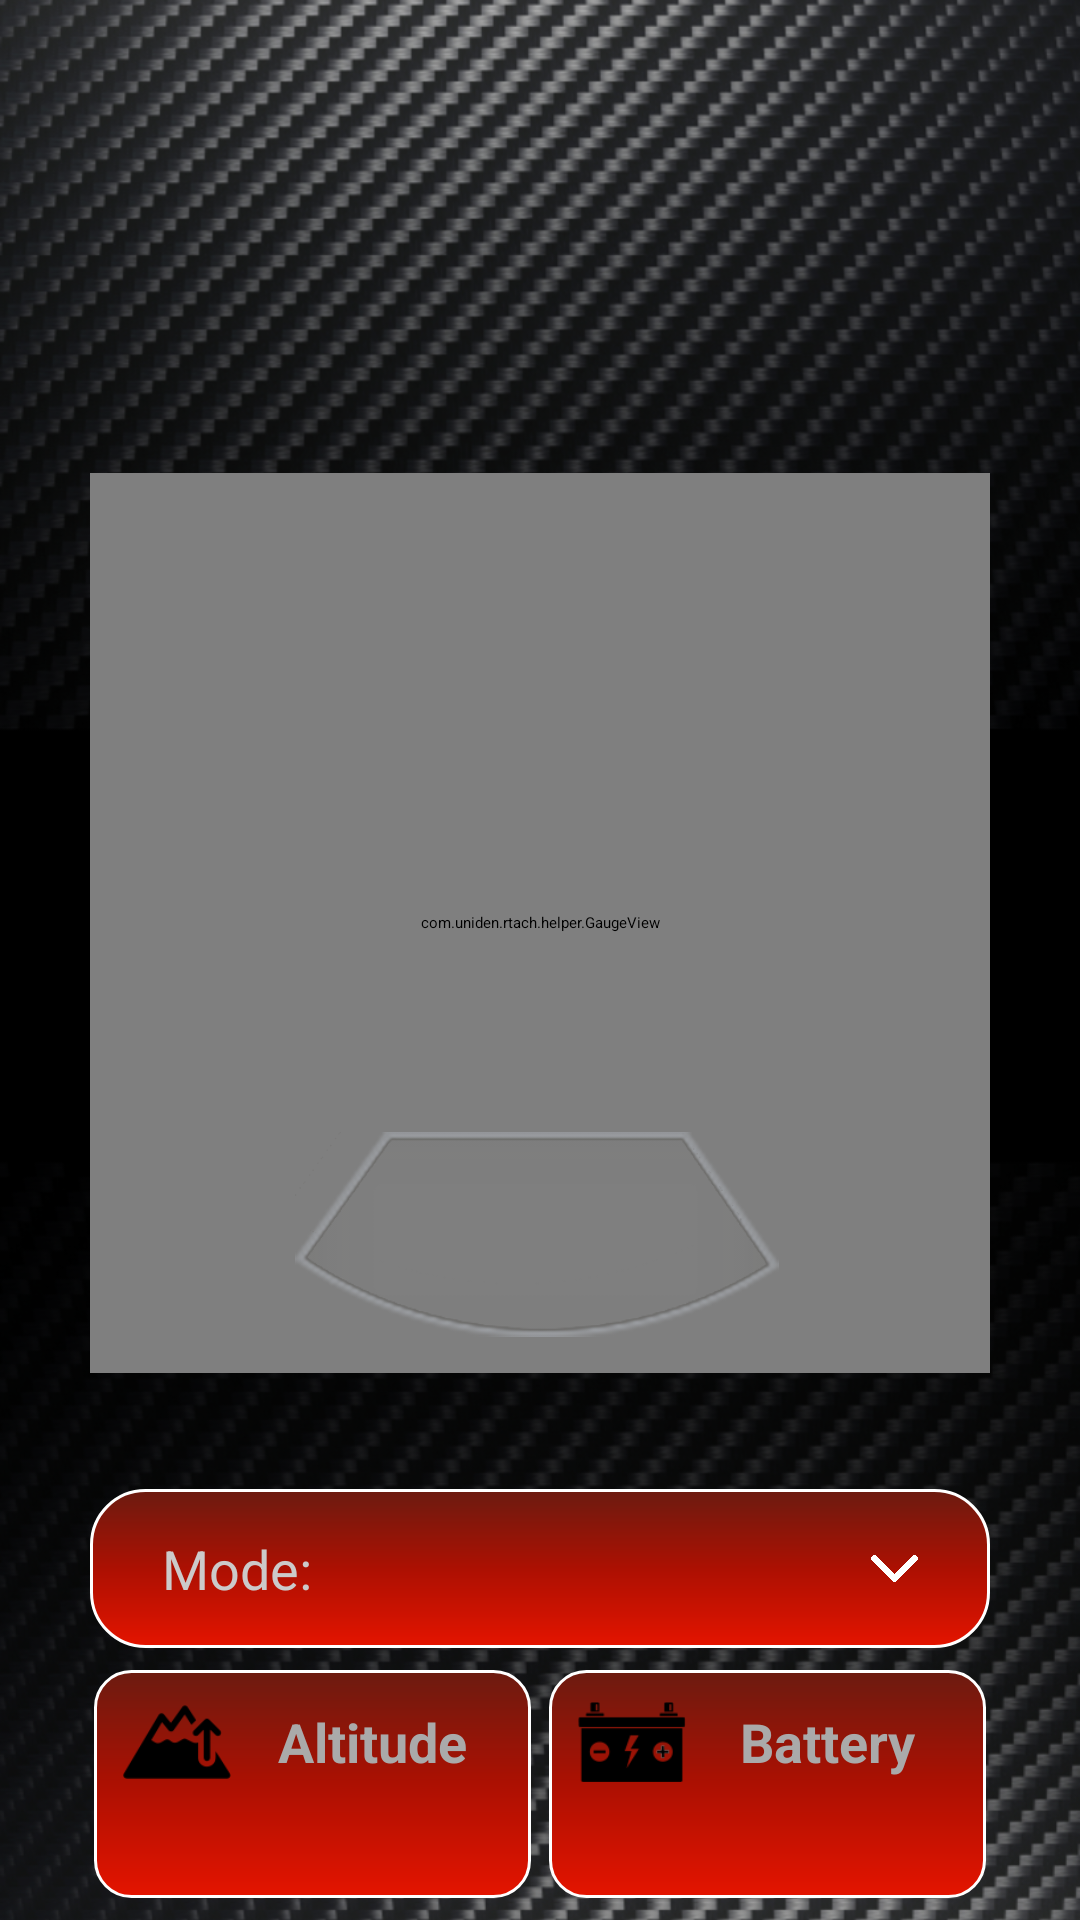

Where to tap for icons on this 1080×1920 app screen, as point (x, y):
drop down: point (894, 1568)
